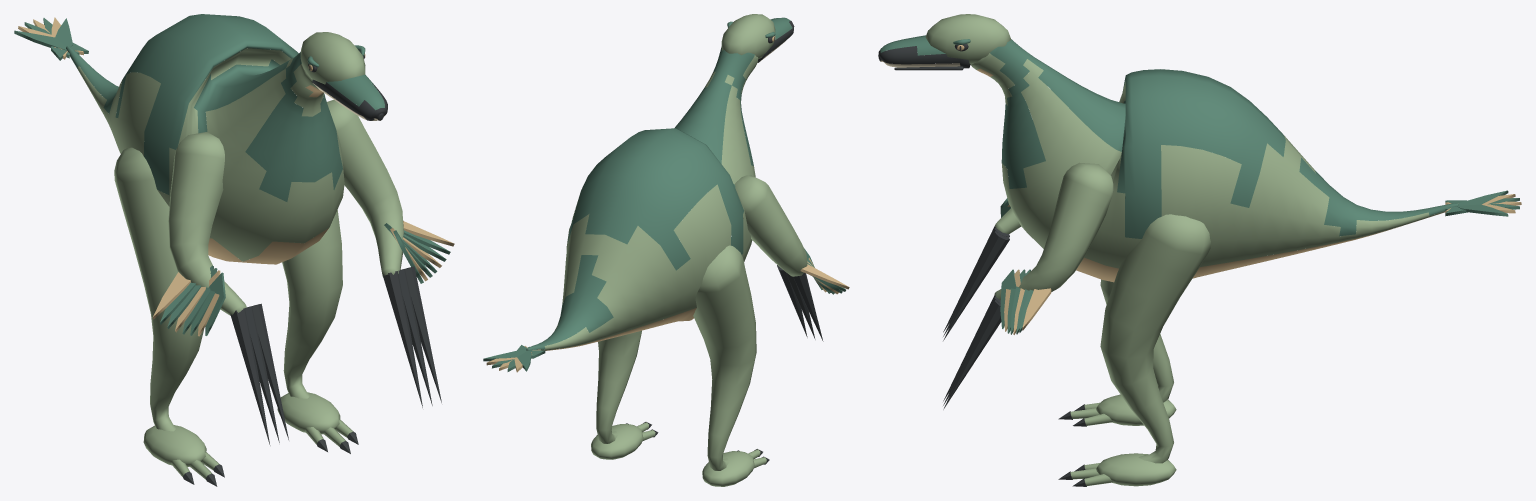
Rendered from therizinosaurus.glb.
3 views of the same model, side by side, from view 1: azimuth 30°, elevation 25°; view 2: azimuth 150°, elevation 25°; view 3: azimuth 270°, elevation 25° (orthographic). The views are drawn at different scales.
Parts seen in each view (by area): view 1: therizinosaurus; view 2: therizinosaurus; view 3: therizinosaurus.
Boxes of the visible parts, box(x1,y1,x2,y2) form: therizinosaurus: box(14, 14, 454, 486); therizinosaurus: box(483, 14, 849, 486); therizinosaurus: box(878, 14, 1521, 486).
Size of the model in its own units: 3.16 by 4.73 by 6.32.
